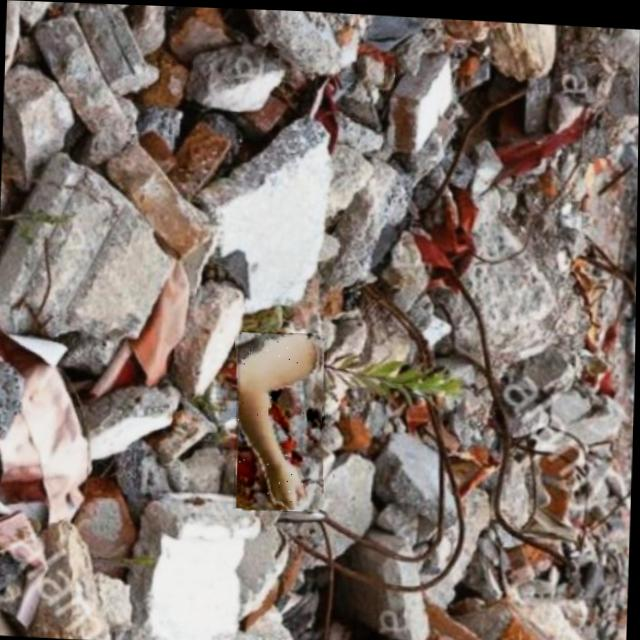Person in Rubble: (233, 327, 327, 511)
